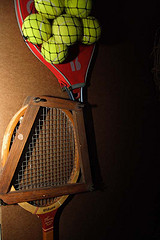tennis ball: (51, 13, 82, 44), (22, 13, 51, 46), (41, 38, 67, 65), (81, 16, 100, 45), (34, 1, 63, 19), (63, 1, 91, 18)
